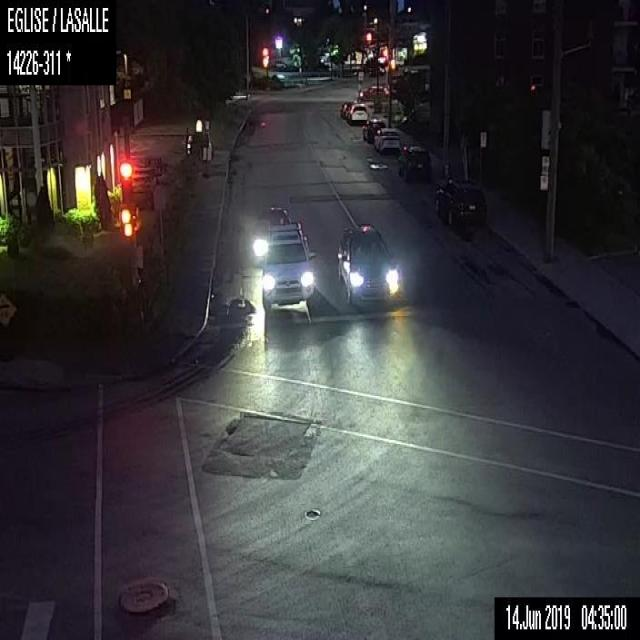vehicle: (334, 221, 401, 312), (260, 223, 316, 311), (433, 176, 487, 225), (252, 205, 290, 256), (398, 146, 430, 182), (372, 126, 402, 154), (356, 81, 389, 102), (362, 116, 383, 142), (346, 102, 368, 124), (339, 100, 355, 118)
